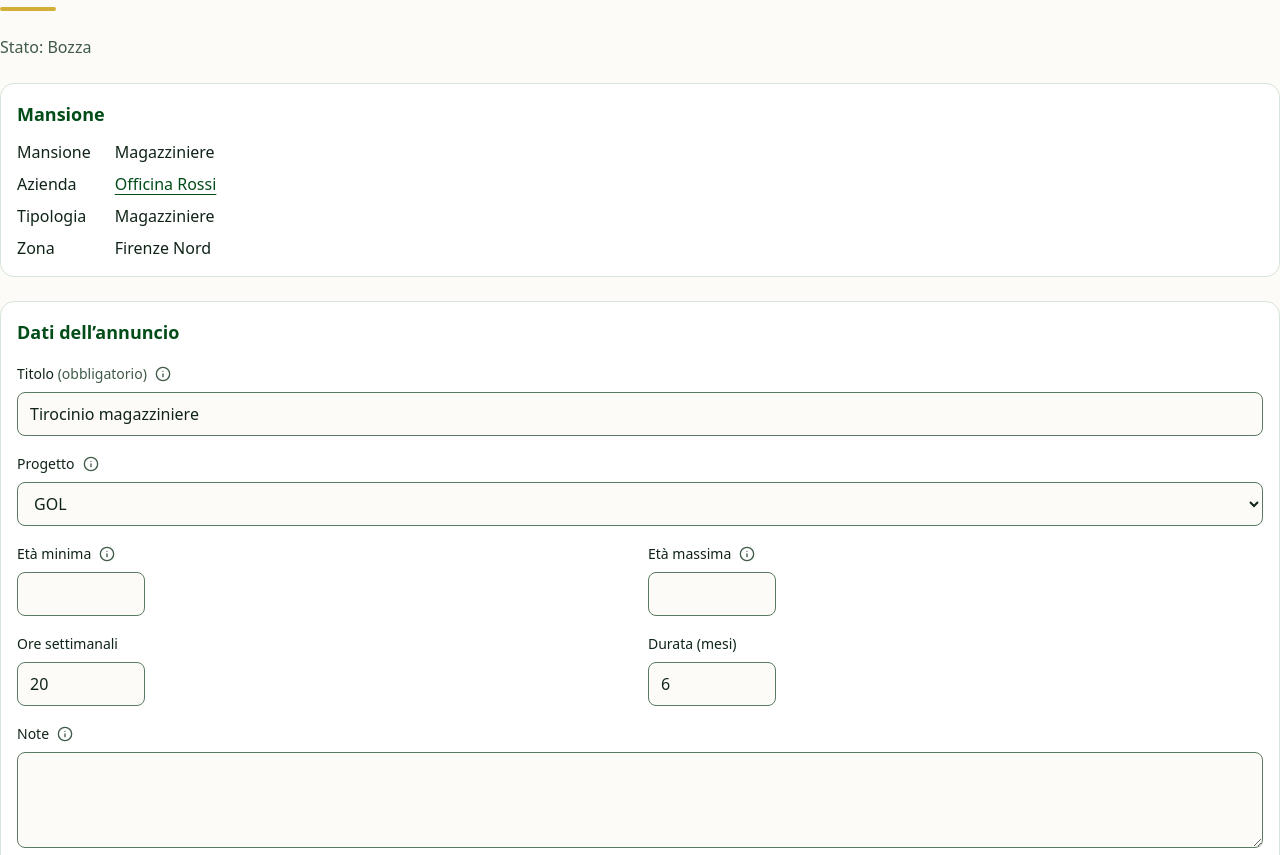
Test: <BoardPostPage> › età incoerente o fuori intervallo: errori nel riepilogo, nessuna richiesta
The width and height of the screenshot is (1280, 855).
Type "30" into the field labelled "Età minima" at (81, 594), box x1=17 y1=572 x2=145 y2=616
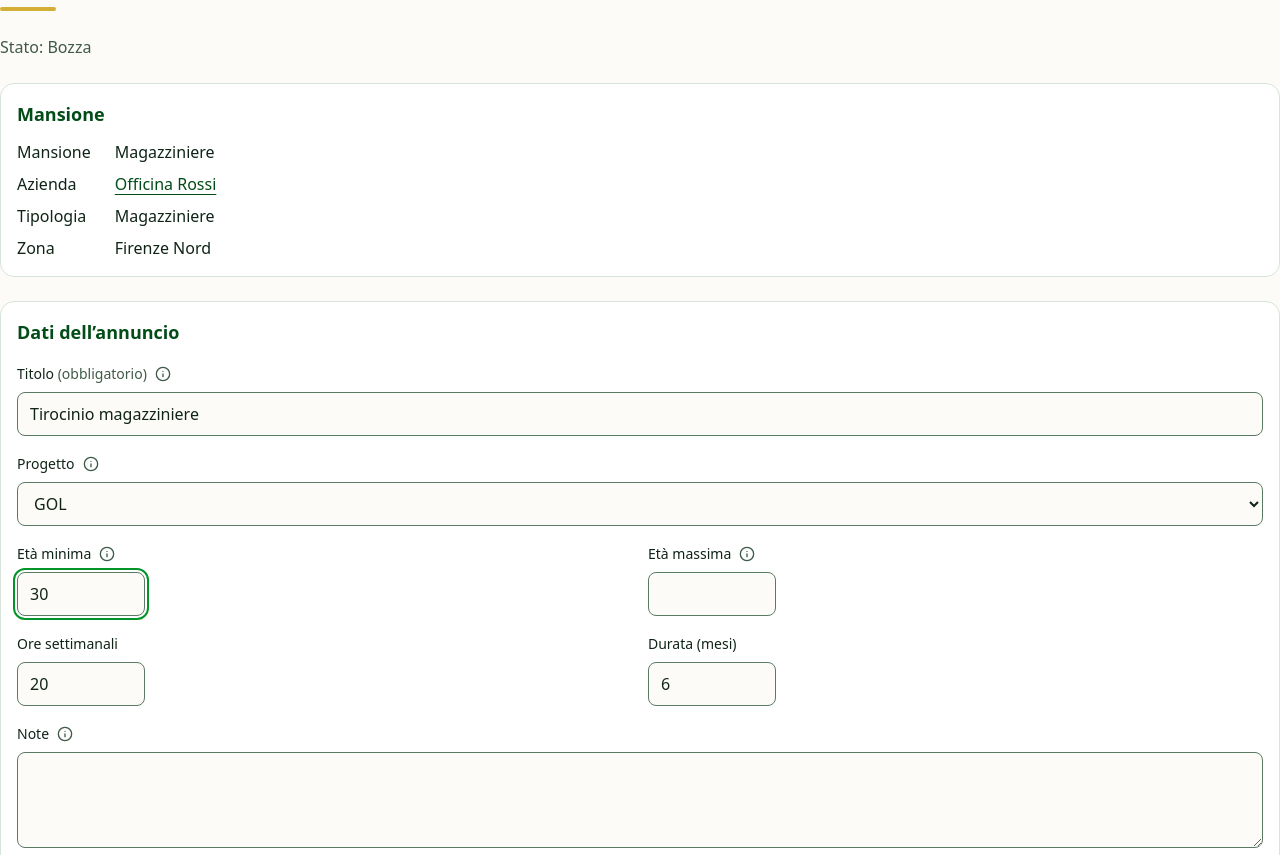
Type "20" into the field labelled "Età massima" at (712, 594), box x1=648 y1=572 x2=776 y2=616
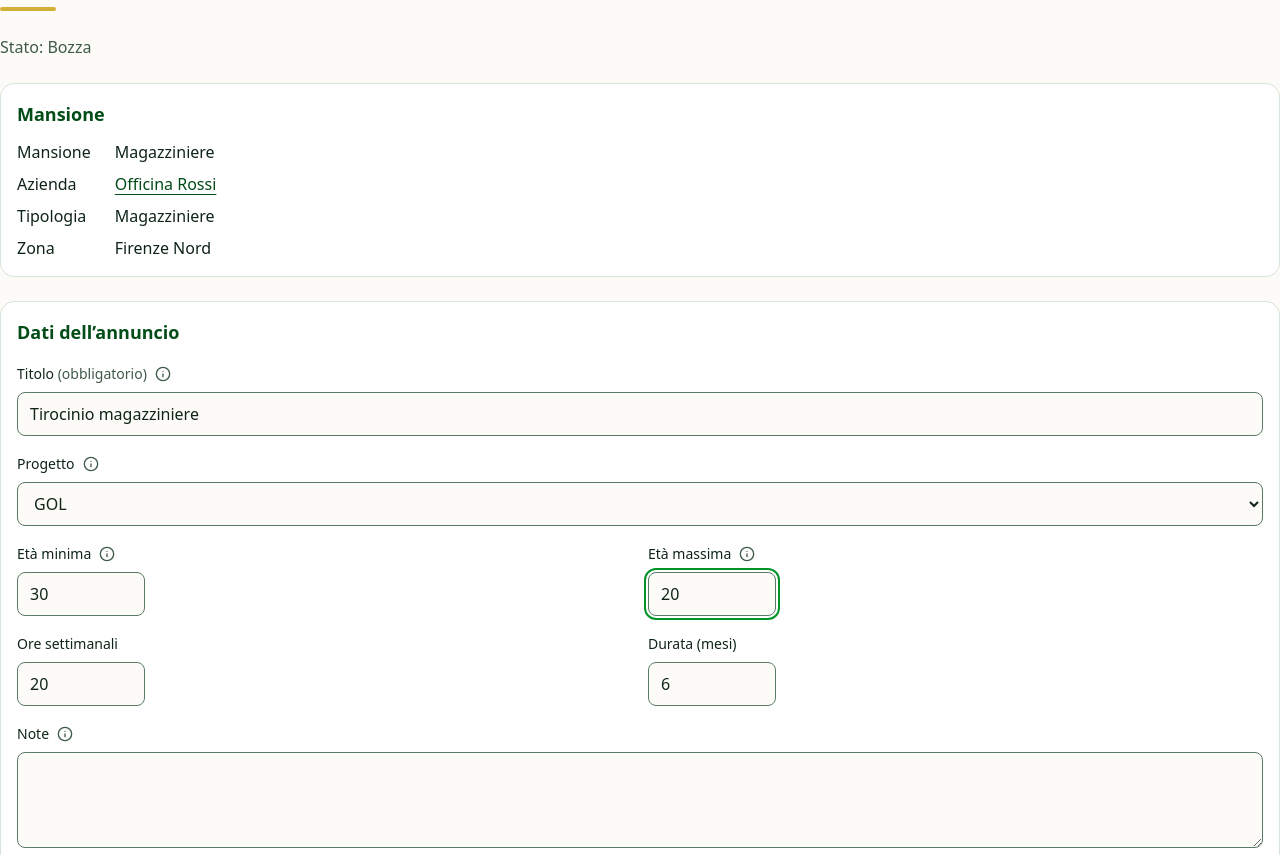
Replace the text in the field labelled "Ore settimanali" with "80" at (81, 684), box x1=17 y1=662 x2=145 y2=706
(page scrolled)
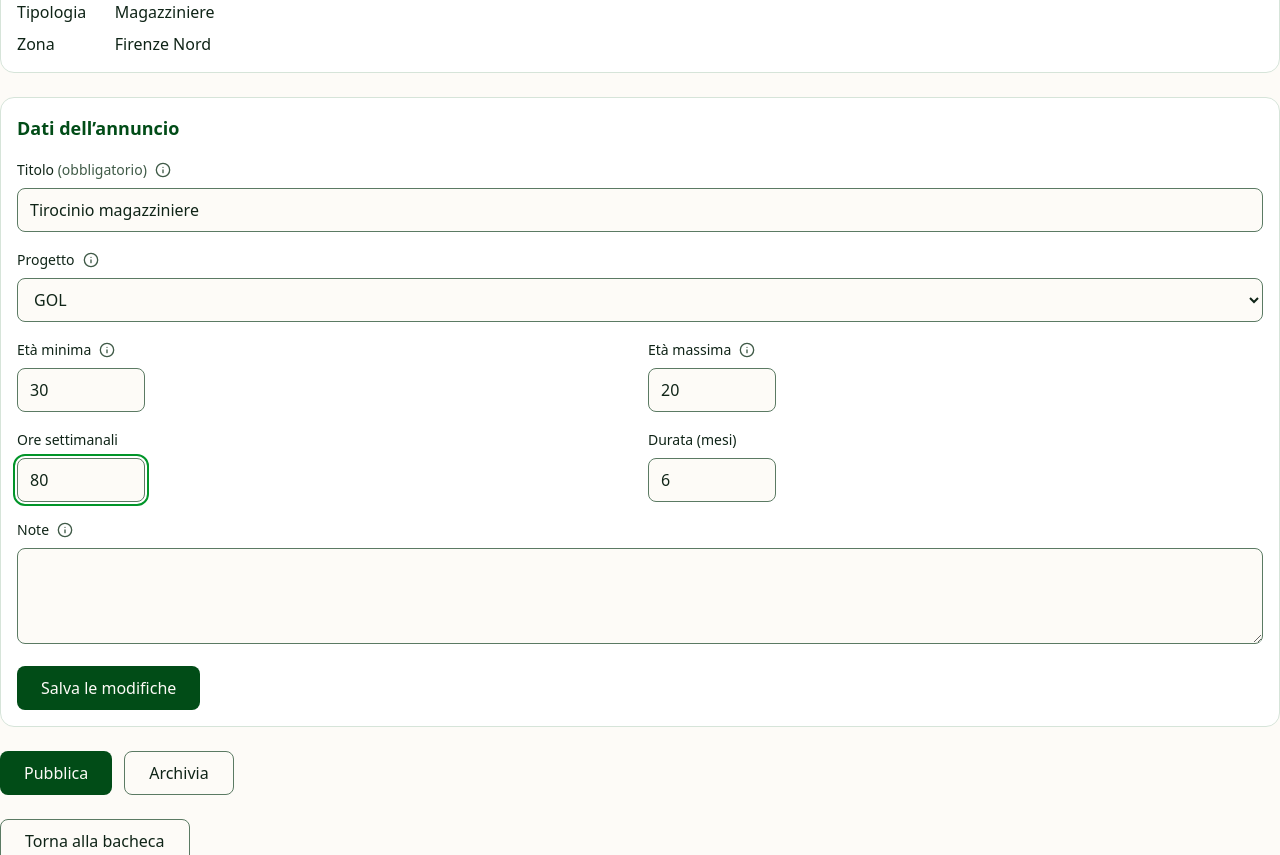
Click the button "Salva le modifiche" at (109, 688), box x1=17 y1=666 x2=200 y2=710
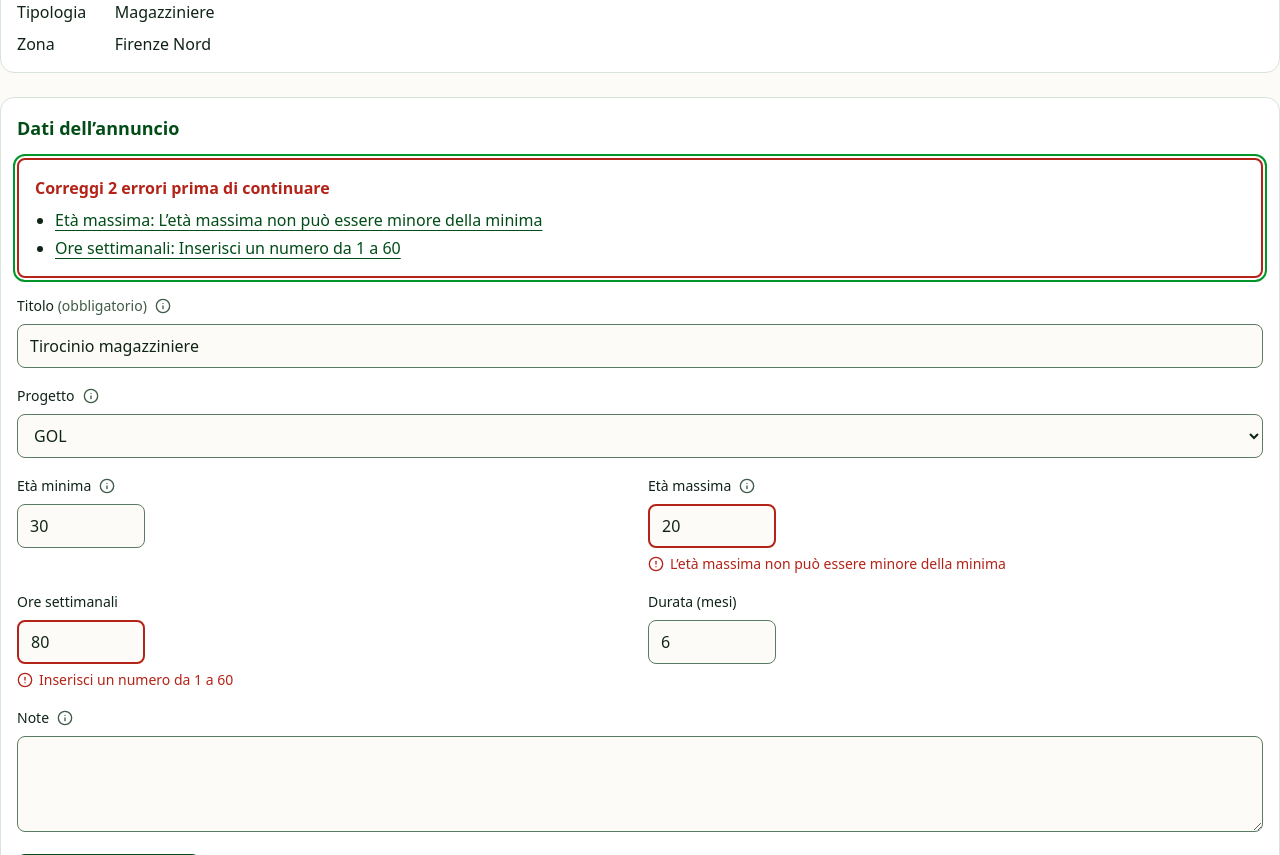
Now the link "Età massima: L’età massima non può essere minore della minima" is shown, box x1=55 y1=209 x2=542 y2=231
Now the link "Ore settimanali: Inserisci un numero da 1 a 60" is shown, box x1=55 y1=237 x2=401 y2=259
